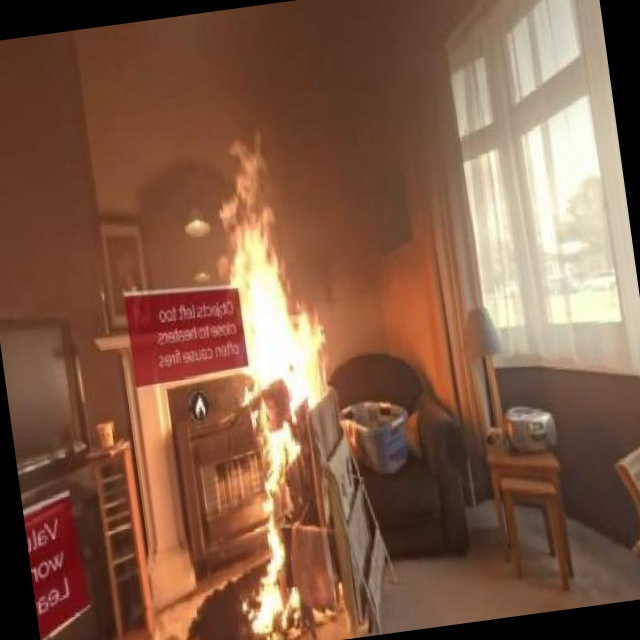fire: (216, 141, 316, 398)
